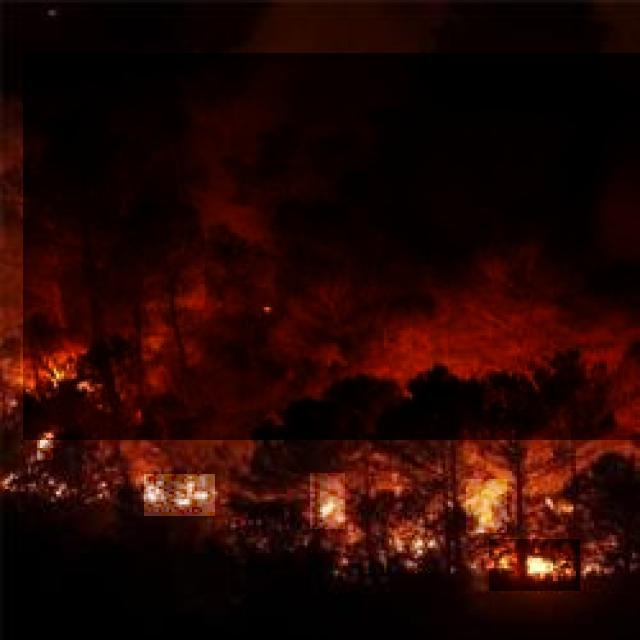Fire: (20, 347, 100, 407), (489, 539, 580, 591), (144, 474, 215, 516), (384, 528, 446, 573), (466, 479, 507, 533), (310, 473, 345, 529), (38, 426, 54, 461)
Smoke: (23, 53, 640, 440)
